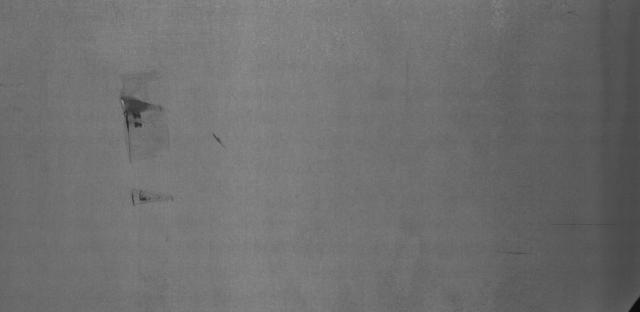rolled_pit: (106, 78, 192, 216)
